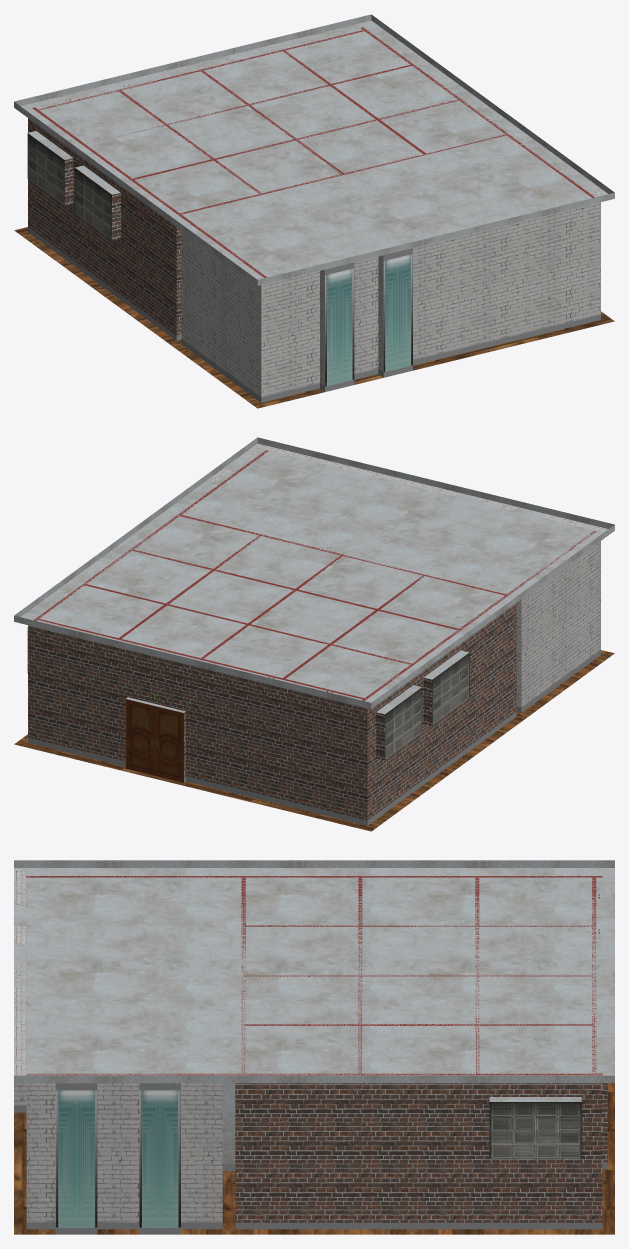
The model's file is Room3.fbx.
3 renders of one model, top to bottom at view 1: azimuth 30°, elevation 25°; view 2: azimuth 150°, elevation 25°; view 3: azimuth 270°, elevation 25°, orthographic. The views are drawn at different scales.
Visible parts, largest first — view 1: Imported_OBJ_Object; view 2: Imported_OBJ_Object; view 3: Imported_OBJ_Object.
Part boxes in pixels (<box>): Imported_OBJ_Object: <box>14,14,614,408</box>; Imported_OBJ_Object: <box>14,437,614,831</box>; Imported_OBJ_Object: <box>14,860,614,1234</box>.
Size of the model in its own units: 1105 by 380 by 1304.
